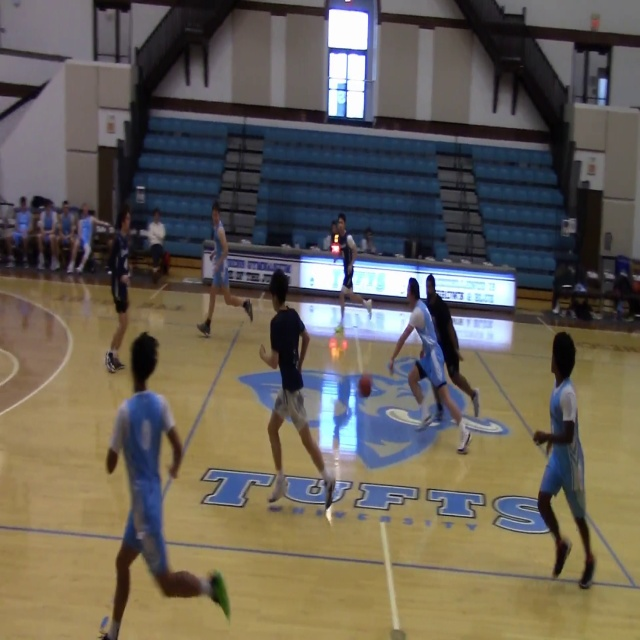Basketball: (358, 375, 372, 397), (331, 244, 340, 254)
